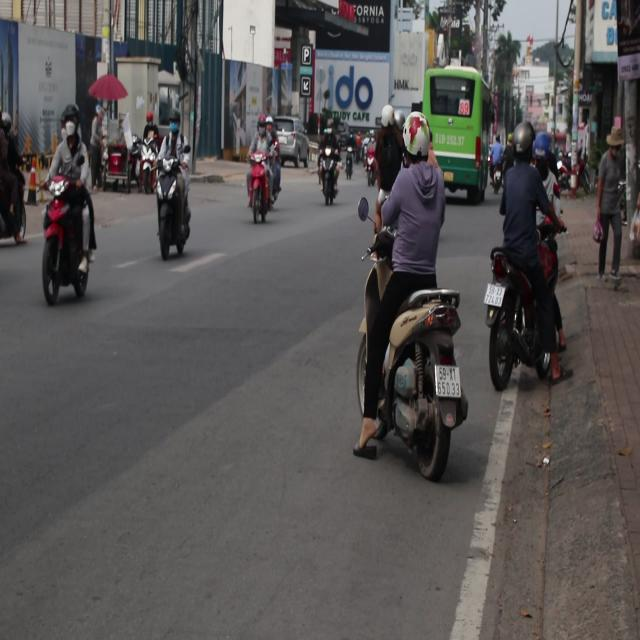bus: (423, 65, 495, 206)
car: (272, 118, 311, 168)
motorbike: (374, 287, 470, 479), (484, 231, 564, 401), (39, 177, 98, 305), (152, 122, 192, 260), (316, 120, 344, 209), (243, 162, 274, 236), (105, 142, 136, 193), (138, 128, 161, 194), (365, 156, 376, 186), (351, 148, 358, 183)
